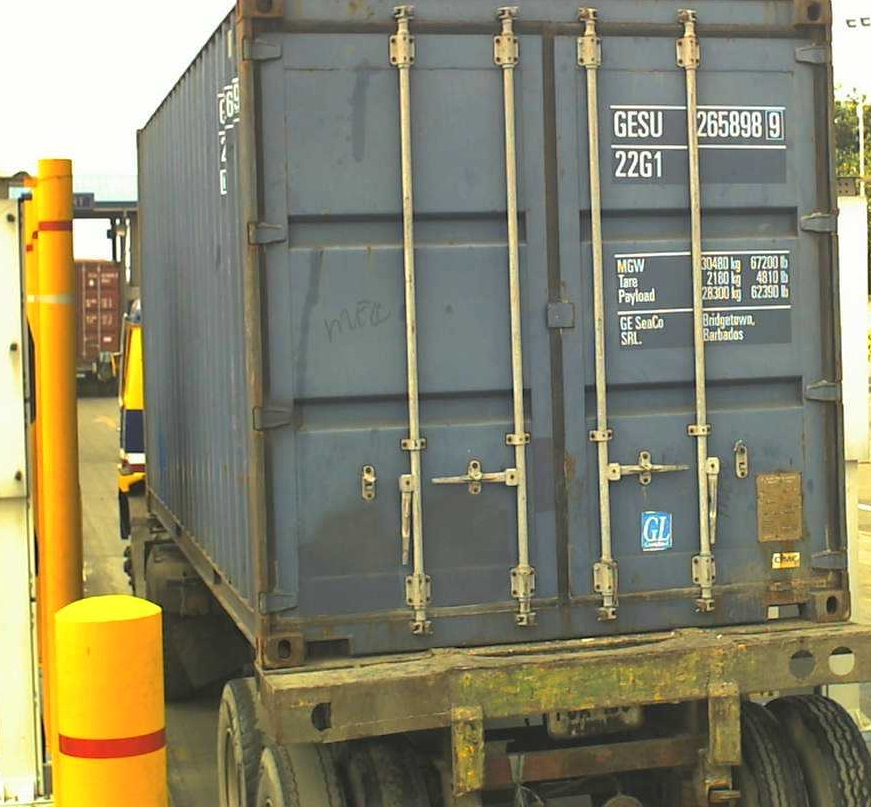container_door: (254, 1, 834, 676)
